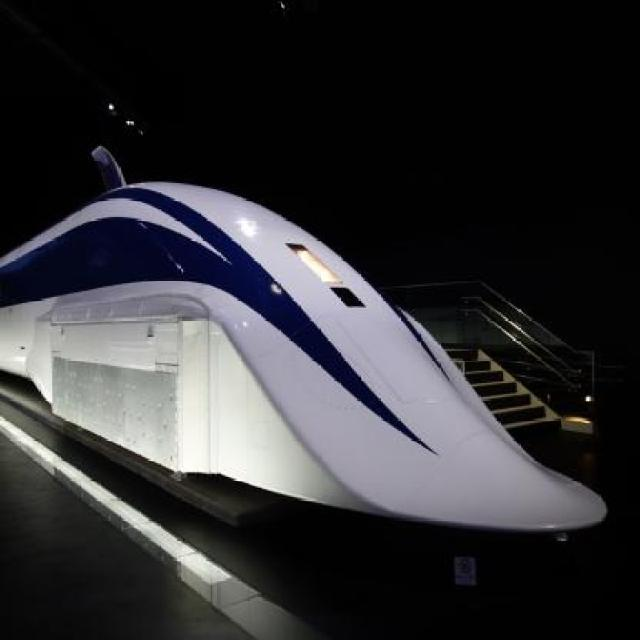stair: (444, 346, 562, 431)
